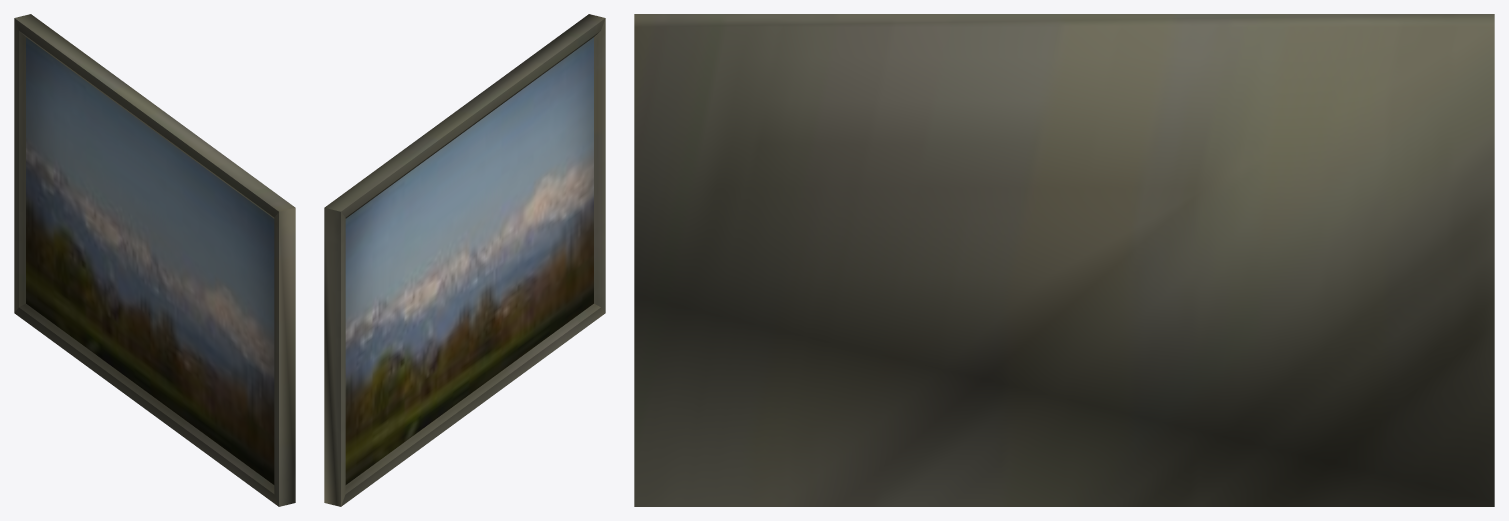
Rendered from PhotoFrame.FBX.
3 renders of one model, left to right at view 1: azimuth 30°, elevation 25°; view 2: azimuth 150°, elevation 25°; view 3: azimuth 270°, elevation 25°, orthographic. The views are drawn at different scales.
Visible parts, largest first — view 1: Box169; view 2: Box169; view 3: Box169.
Part boxes in pixels (bbox=[...]): Box169: bbox=[14, 14, 295, 506]; Box169: bbox=[324, 14, 605, 506]; Box169: bbox=[634, 14, 1494, 506].
Size of the model in its own units: 4.21 by 71.45 by 116.
